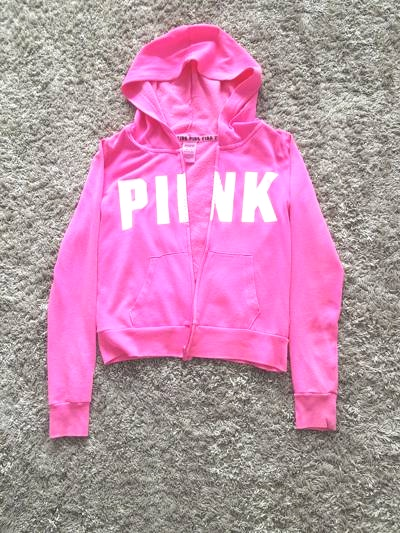Hoodie: (46, 17, 368, 440)
